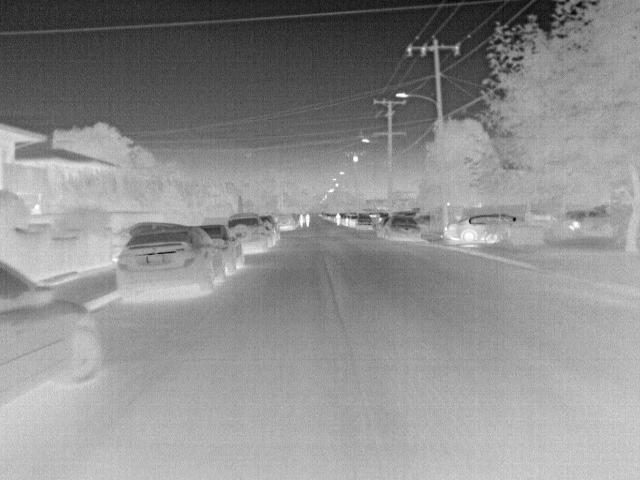car: (2, 258, 100, 412), (116, 226, 226, 299), (442, 213, 517, 245), (200, 227, 245, 274), (228, 213, 267, 249), (381, 215, 423, 241), (259, 214, 280, 243), (352, 214, 374, 230), (375, 215, 391, 236), (276, 214, 295, 230)
person: (298, 211, 305, 229), (335, 212, 343, 226), (304, 213, 312, 227)
